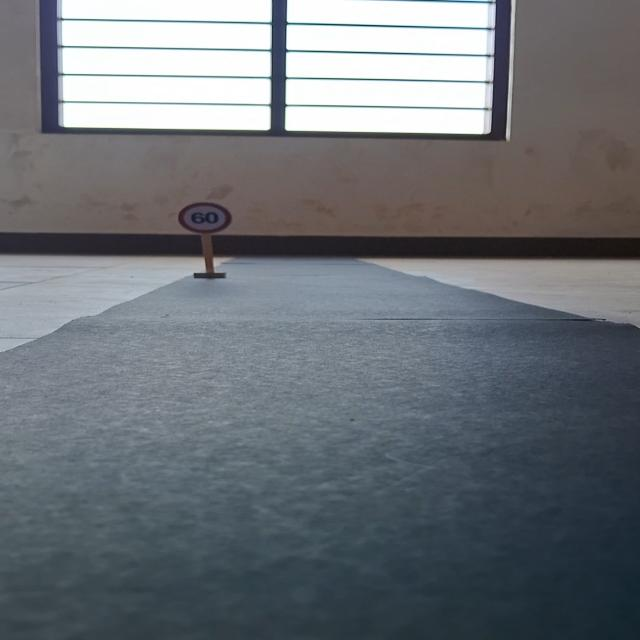Speed60: (172, 201, 237, 238)
